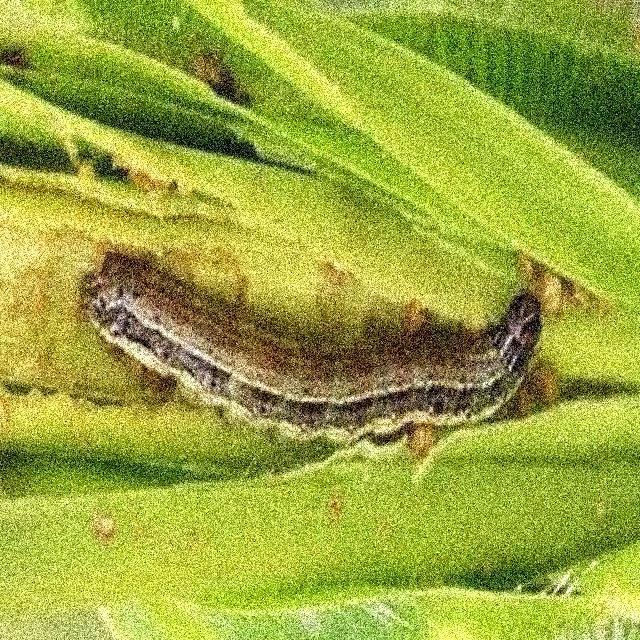worm: (78, 243, 553, 482)
